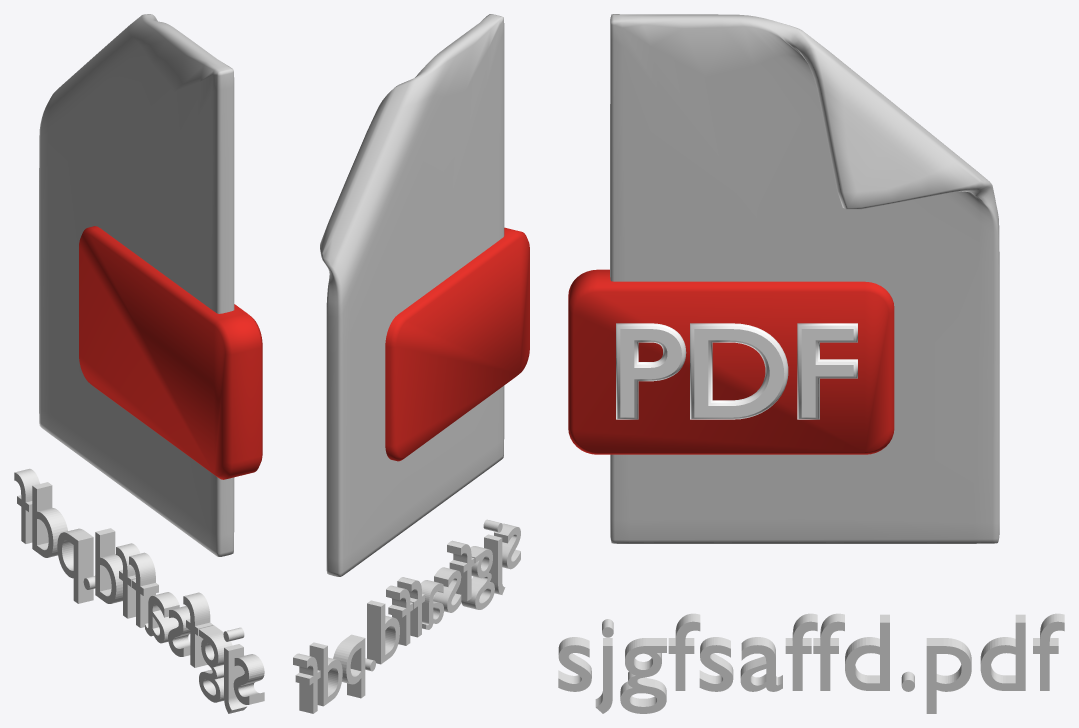
File: KnittingPDF.fbx
3 views of the same model, side by side, from view 1: azimuth 30°, elevation 25°; view 2: azimuth 150°, elevation 25°; view 3: azimuth 270°, elevation 25° (orthographic). The views are drawn at different scales.
Visible parts, largest first — view 1: PDFPaper, PDFTitle, PDFName; view 2: PDFPaper, PDFTitle, PDFName; view 3: PDFPaper, PDFTitle, PDFName, PDFText.
Boxes of the visible parts, left/top/right/bottom form: PDFPaper: left=39, top=14, right=234, bottom=556; PDFTitle: left=79, top=226, right=262, bottom=479; PDFName: left=14, top=468, right=264, bottom=713; PDFPaper: left=320, top=14, right=504, bottom=576; PDFTitle: left=385, top=227, right=529, bottom=461; PDFName: left=293, top=519, right=520, bottom=713; PDFPaper: left=610, top=14, right=999, bottom=543; PDFTitle: left=568, top=269, right=894, bottom=454; PDFName: left=558, top=613, right=1064, bottom=713; PDFText: left=616, top=323, right=857, bottom=419.
Bounding box in the file's own units: 59.34 × 455 × 303.
